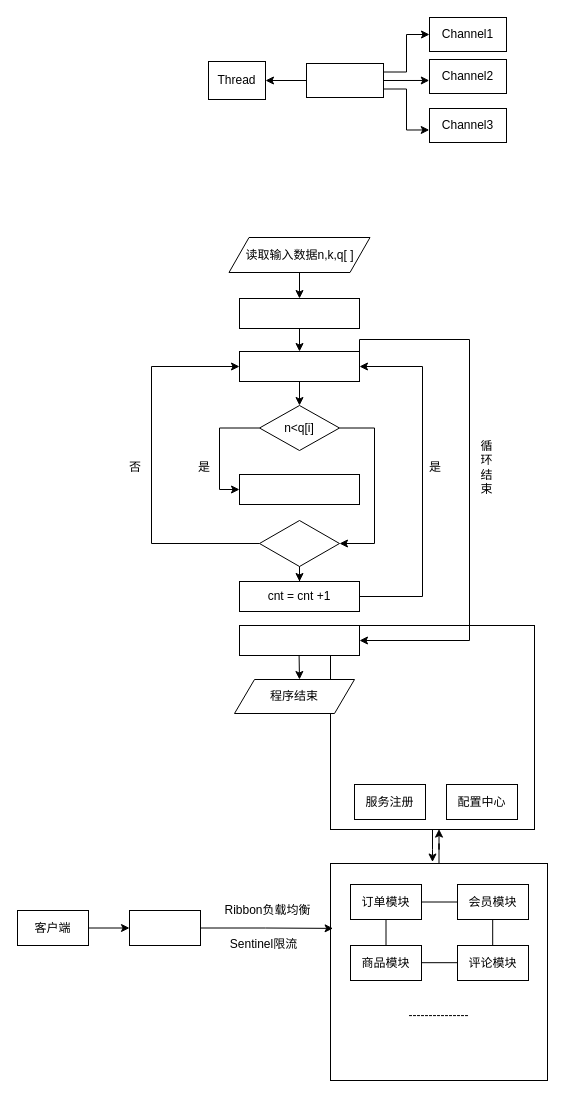
Image size: 565x1098. Some labels were removed from this diagram. The centre of each missing label's shape, as x and y in pixels:
GateWay: pixel 164 928
rest<q[i]: pixel 299 543
selector选择器: pixel 345 80
初始化变量rest，cnt: pixel 299 313
输出cnt: pixel 299 640
输出“No Solution”: pixel 299 489
遍历加油站距离: pixel 299 366
